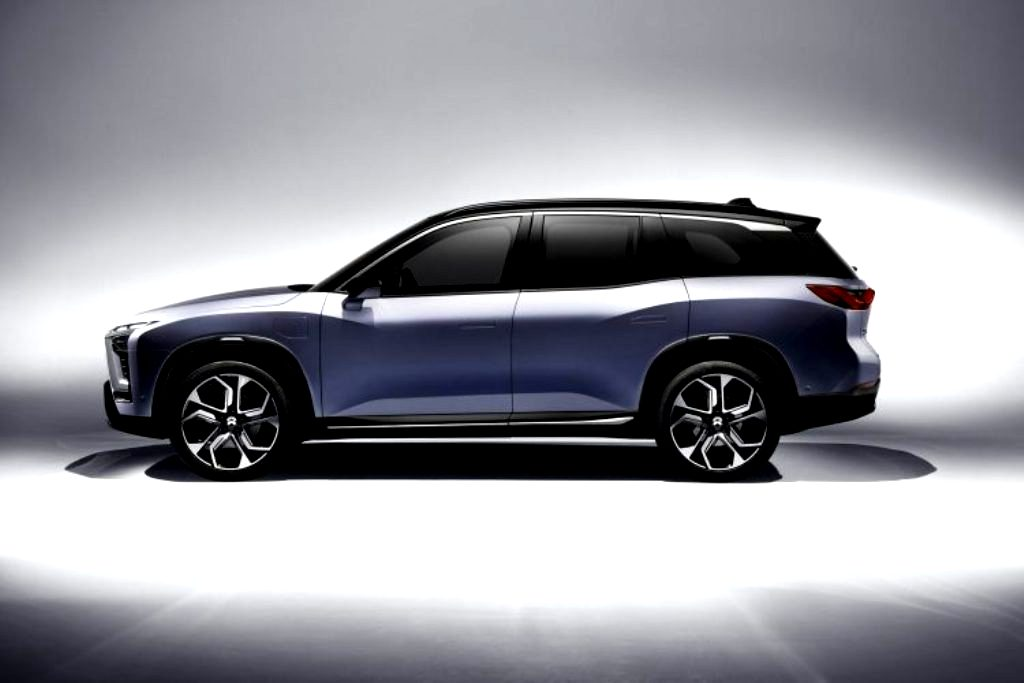pickup: (103, 196, 885, 481)
